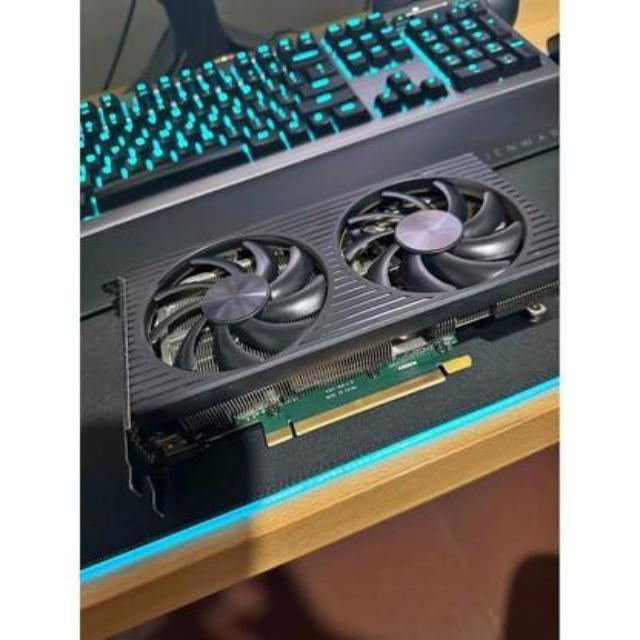GPU: (122, 151, 570, 463)
